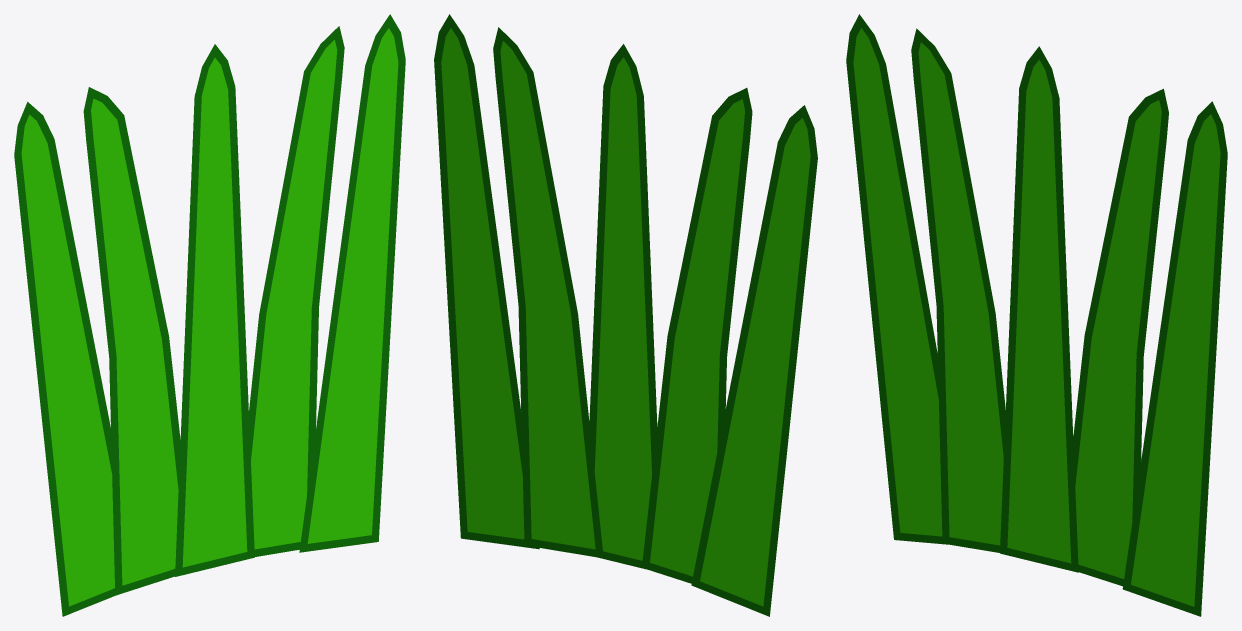
File: Grassblade.fbx
3 views of the same model, side by side, from view 1: azimuth 30°, elevation 25°; view 2: azimuth 150°, elevation 25°; view 3: azimuth 330°, elevation 25° (orthographic).
Visible parts, largest first — view 1: GrassBlade; view 2: GrassBlade; view 3: GrassBlade.
Part boxes in pixels (x1,y1,x2,y2): GrassBlade: (14, 14, 405, 616); GrassBlade: (434, 14, 817, 616); GrassBlade: (846, 14, 1227, 616).
Bounding box in the file's own units: 25.55 × 33.8 × 0.2988.
